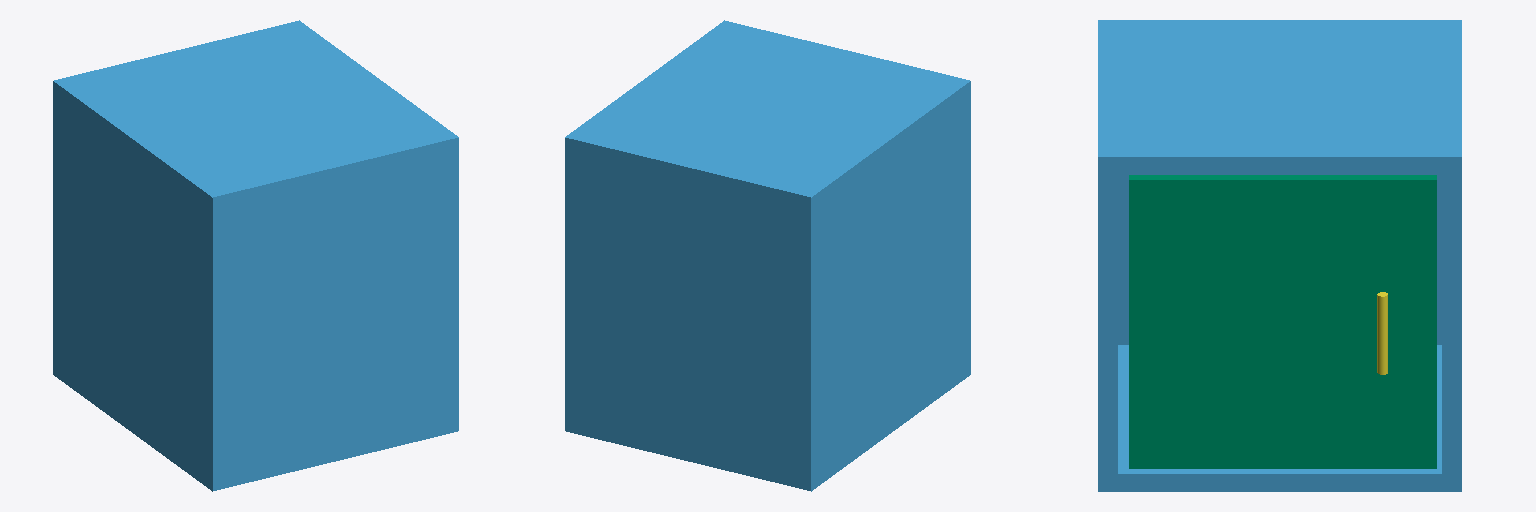
The robot description file, URDF, robot "my_cabinet":
<?xml version="1.0" ?>
<robot name="my_cabinet">
	<link name="world"/>
	<joint name="virtual_joint" type="fixed">
		<parent link="world"/>
		<child link="base_cabinet_link"/>
		<origin xyz="0.0 0.0 0.0" rpy="0.0 0.0 0.0"/>
	</joint>
	<link name="base_cabinet_link">
		<visual>
			<origin xyz="0.0 -0.0025 -0.16181831212683148" rpy="0.0 0.0 0.0"/>
			<geometry>
				<box size="0.3 0.33636183089831667 0.018"/>
			</geometry>
		</visual>
		<collision name="base_cabinet_link_collision_0">
			<origin xyz="0.0 -0.0025 -0.16181831212683148" rpy="0.0 0.0 0.0"/>
			<geometry>
				<box size="0.3 0.33636183089831667 0.018"/>
			</geometry>
		</collision>
		<visual>
			<origin xyz="0.0 0.15668091544915835 0.0" rpy="0.0 0.0 0.0"/>
			<geometry>
				<box size="0.3 0.018 0.341636624253663"/>
			</geometry>
		</visual>
		<collision name="base_cabinet_link_collision_1">
			<origin xyz="0.0 0.15668091544915835 0.0" rpy="0.0 0.0 0.0"/>
			<geometry>
				<box size="0.3 0.018 0.341636624253663"/>
			</geometry>
		</collision>
		<visual>
			<origin xyz="0.0 -0.16168091544915836 0.0" rpy="0.0 0.0 0.0"/>
			<geometry>
				<box size="0.3 0.018 0.341636624253663"/>
			</geometry>
		</visual>
		<collision name="base_cabinet_link_collision_2">
			<origin xyz="0.0 -0.16168091544915836 0.0" rpy="0.0 0.0 0.0"/>
			<geometry>
				<box size="0.3 0.018 0.341636624253663"/>
			</geometry>
		</collision>
		<visual>
			<origin xyz="0.0 -0.0025 0.16181831212683148" rpy="0.0 0.0 0.0"/>
			<geometry>
				<box size="0.3 0.33636183089831667 0.018"/>
			</geometry>
		</visual>
		<collision name="base_cabinet_link_collision_3">
			<origin xyz="0.0 -0.0025 0.16181831212683148" rpy="0.0 0.0 0.0"/>
			<geometry>
				<box size="0.3 0.33636183089831667 0.018"/>
			</geometry>
		</collision>
		<visual>
			<origin xyz="-0.141 -0.0025 0.0" rpy="0.0 0.0 0.0"/>
			<geometry>
				<box size="0.018 0.33636183089831667 0.341636624253663"/>
			</geometry>
		</visual>
		<collision name="base_cabinet_link_collision_4">
			<origin xyz="-0.141 -0.0025 0.0" rpy="0.0 0.0 0.0"/>
			<geometry>
				<box size="0.018 0.33636183089831667 0.341636624253663"/>
			</geometry>
		</collision>
		<inertial>
			<mass value="0.200000"/>
			<inertia ixx="0.003831" ixy="0.0" ixz="0.0" iyy="0.003445" iyz="0.0" izz="0.003386"/>
		</inertial>
	</link>
	<link name="door_link">
		<visual>
			<origin xyz="0.0 -0.14268091544915834 0.0"/>
			<geometry>
				<box size="0.018 0.2853618308983167 0.29563662425366294"/>
			</geometry>
		</visual>
		<collision name="door_link_collision">
			<origin xyz="0.0 -0.14268091544915834 0.0"/>
			<geometry>
				<box size="0.018 0.2853618308983167 0.29563662425366294"/>
			</geometry>
		</collision>
		<inertial>
			<mass value="0.200000"/>
			<inertia ixx="0.002814" ixy="0.0" ixz="0.0" iyy="0.001462" iyz="0.0" izz="0.001363"/>
		</inertial>
	</link>
	<joint name="door_joint" type="revolute">
		<origin xyz="0.141 -0.14268091544915834 0.0" rpy="0.000000 -0.000000 3.141593"/>
		<axis xyz="0 0 1"/>
		<parent link="base_cabinet_link"/>
		<child link="door_link"/>
		<limit effort="50" lower="-1.658062789394613" upper="0" velocity="10"/>
		<dynamics friction="3.5" damping="3.5"/>
	</joint>
	<link name="handle_link">
		<visual>
			<origin xyz="0.0 0.0 0.0" rpy="0.0 0.0 0.0"/>
			<geometry>
				<cylinder length="0.08" radius="0.005"/>
			</geometry>
		</visual>
		<collision name="handle_link_collision_0">
			<origin xyz="0.0 0.0 0.0" rpy="0.0 0.0 0.0"/>
			<geometry>
				<cylinder length="0.08" radius="0.005"/>
			</geometry>
		</collision>
		<visual>
			<origin xyz="-0.01 0.0 0.02" rpy="0.0 1.5707963267948966 0.0"/>
			<geometry>
				<cylinder length="0.02" radius="0.003"/>
			</geometry>
		</visual>
		<collision name="handle_link_collision_1">
			<origin xyz="-0.01 0.0 0.02" rpy="0.0 1.5707963267948966 0.0"/>
			<geometry>
				<cylinder length="0.01" radius="0.003"/>
			</geometry>
		</collision>
		<visual>
			<origin xyz="-0.01 0.0 -0.02" rpy="0.0 1.5707963267948966 0.0"/>
			<geometry>
				<cylinder length="0.02" radius="0.003"/>
			</geometry>
		</visual>
		<collision name="handle_link_collision_2">
			<origin xyz="-0.01 0.0 -0.02" rpy="0.0 1.5707963267948966 0.0"/>
			<geometry>
				<cylinder length="0.02" radius="0.003"/>
			</geometry>
		</collision>
		<inertial>
			<mass value="0.050000"/>
			<inertia ixx="0.000027" ixy="0.0" ixz="0.0" iyy="0.000029" iyz="0.0" izz="0.000003"/>
		</inertial>
	</link>
	<joint name="handle_joint" type="fixed">
		<origin xyz="-0.028999999999999998 -0.2353618308983167 0.0" rpy="0.000000 -0.000000 3.141593"/>
		<parent link="door_link"/>
		<child link="handle_link"/>
	</joint>
	<gazebo reference="base_cabinet_link">
		<sensor name="main_sensor" type="contact">
			<selfCollide>true</selfCollide>
			<alwaysOn>true</alwaysOn>
			<updateRate>5.0</updateRate>
			<material>Gazebo/Red</material>
			<contact>
				<collision>base_cabinet_link_collision_0_collision</collision>
				<collision>base_cabinet_link_collision_1_collision</collision>
				<collision>base_cabinet_link_collision_2_collision</collision>
				<collision>base_cabinet_link_collision_3_collision</collision>
				<collision>base_cabinet_link_collision_4_collision</collision>
			</contact>
			<plugin name="gazebo_ros_bumper_controller" filename="libgazebo_ros_bumper.so">
				<bumperTopicName>/contact</bumperTopicName>
				<frameName>world</frameName>
			</plugin>
		</sensor>
	</gazebo>
	<gazebo reference="door_link">
		<sensor name="main_sensor" type="contact">
			<selfCollide>true</selfCollide>
			<alwaysOn>true</alwaysOn>
			<updateRate>5.0</updateRate>
			<material>Gazebo/Red</material>
			<contact>
				<collision>door_link_collision_collision</collision>
			</contact>
			<plugin name="gazebo_ros_bumper_controller" filename="libgazebo_ros_bumper.so">
				<bumperTopicName>/contact_door</bumperTopicName>
				<frameName>contact_door</frameName>
			</plugin>
		</sensor>
	</gazebo>
	<gazebo reference="door_link">
		<mu>3.0</mu>
		<mu2>3.0</mu2>
		<kp>10000000</kp>
		<kd>100</kd>
	</gazebo>
</robot>

--- What the picture shows (computed from the rendered views, not written in the file) ---
The picture shows the robot from 3 angles, left to right: view 1: azimuth 30°, elevation 25°; view 2: azimuth 150°, elevation 25°; view 3: azimuth 270°, elevation 25°; orthographic projection.
Robot: my_cabinet — 4 links, 3 joints (1 revolute, 2 fixed); root link world; default pose: all joints at 0.
Links seen in each view (by area): view 1: base_cabinet_link; view 2: base_cabinet_link; view 3: door_link, base_cabinet_link, handle_link.
Link boxes in pixels (box(x1,y1,x2,y2)): base_cabinet_link: box(53, 20, 458, 491); base_cabinet_link: box(565, 20, 970, 491); door_link: box(1129, 175, 1436, 468); base_cabinet_link: box(1098, 20, 1461, 491); handle_link: box(1377, 292, 1387, 374).
Size in the robot's own frame: 0.325 by 0.3364 by 0.3416 metres.
Geometry: primitives only (box / cylinder / sphere), no mesh files.
